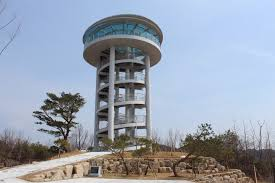sky: (162, 5, 275, 137), (1, 1, 84, 116)
tree: (30, 85, 82, 149), (100, 132, 151, 172), (190, 121, 241, 154)
